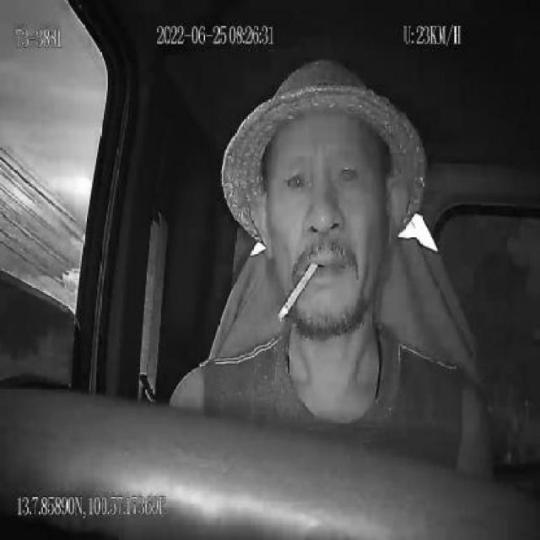smoking: (278, 262, 317, 322)
